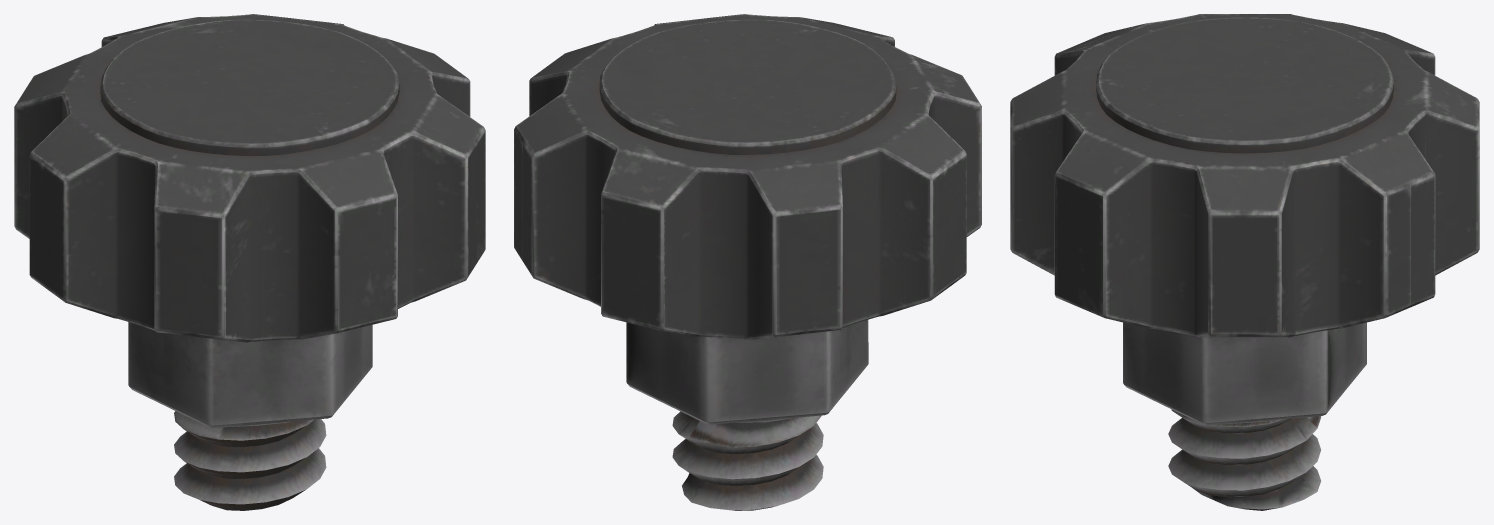
File: Pommel_Hammer_3.glb
3 views of the same model, side by side, from view 1: azimuth 30°, elevation 25°; view 2: azimuth 150°, elevation 25°; view 3: azimuth 270°, elevation 25° (orthographic).
Visible parts, largest first — view 1: Pommel_Hammer_3_LOD0; view 2: Pommel_Hammer_3_LOD0; view 3: Pommel_Hammer_3_LOD0.
Boxes of the visible parts, x1,y1,x2,y2 form: Pommel_Hammer_3_LOD0: [14, 14, 485, 510]; Pommel_Hammer_3_LOD0: [514, 14, 981, 510]; Pommel_Hammer_3_LOD0: [1010, 14, 1479, 510].
Size of the model in its own units: 0.0705 by 0.0679 by 0.0705.
Materials: 1 (1 with a texture image).
